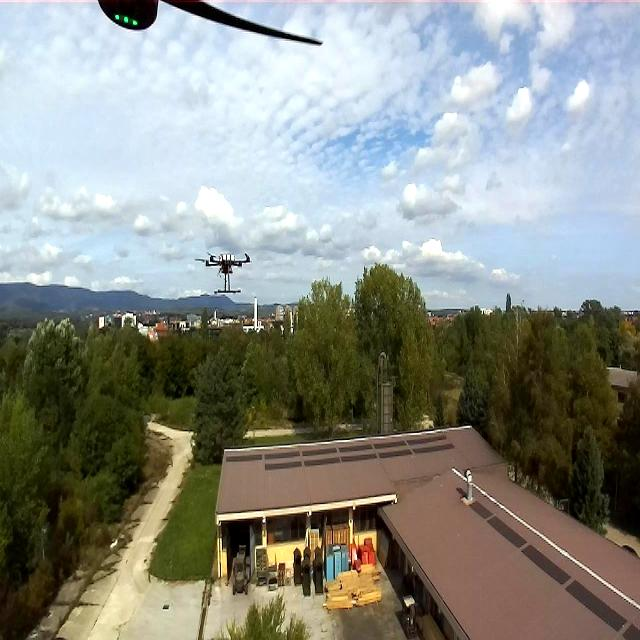drone: (200, 244, 250, 297)
